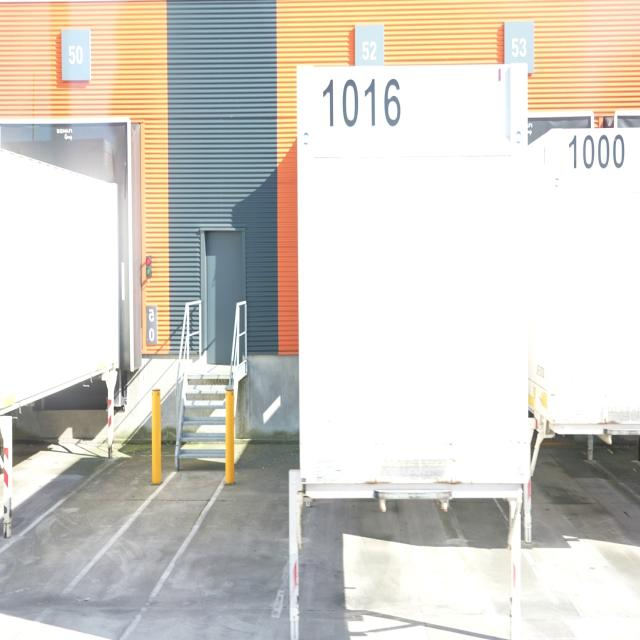Code: (320, 70, 406, 134), (567, 130, 629, 176)
